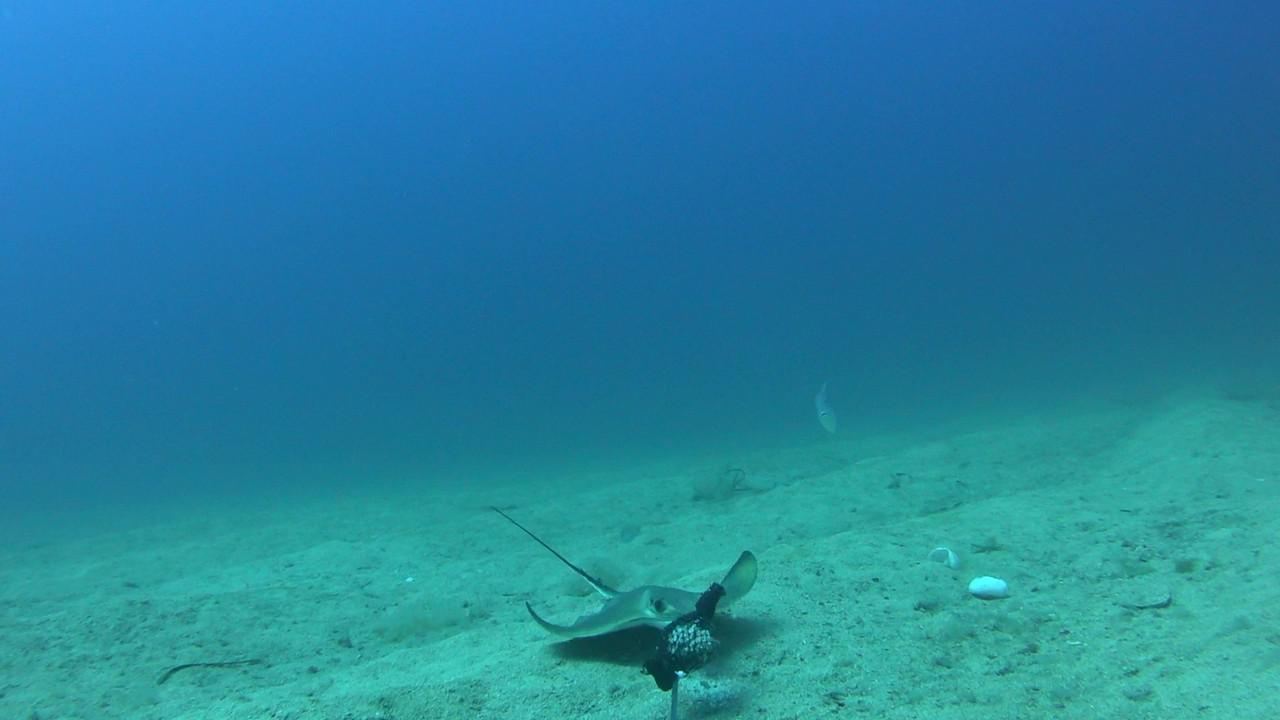bothus: (1107, 574, 1178, 616)
myliobatis: (463, 476, 781, 636)
